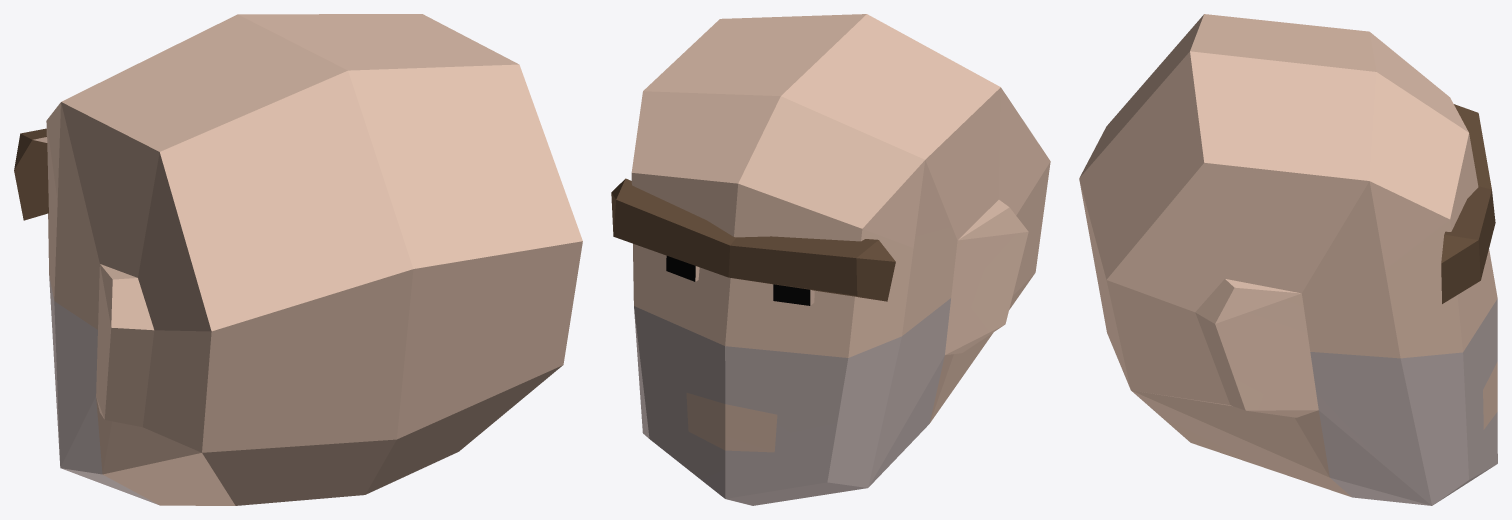
File: white_male_head.fbx
The picture shows the model from 3 angles, left to right: view 1: azimuth 30°, elevation 25°; view 2: azimuth 150°, elevation 25°; view 3: azimuth 270°, elevation 25°; orthographic projection. The views are drawn at different scales.
Parts seen in each view (by area): view 1: Character_SportyMale_02; view 2: Character_SportyMale_02; view 3: Character_SportyMale_02.
Boxes of the visible parts, x1,y1,x2,y2 form: Character_SportyMale_02: (14, 14, 582, 505); Character_SportyMale_02: (611, 14, 1050, 505); Character_SportyMale_02: (1079, 14, 1497, 505).
Bounding box in the file's own units: 2661 × 2997 × 2573.
